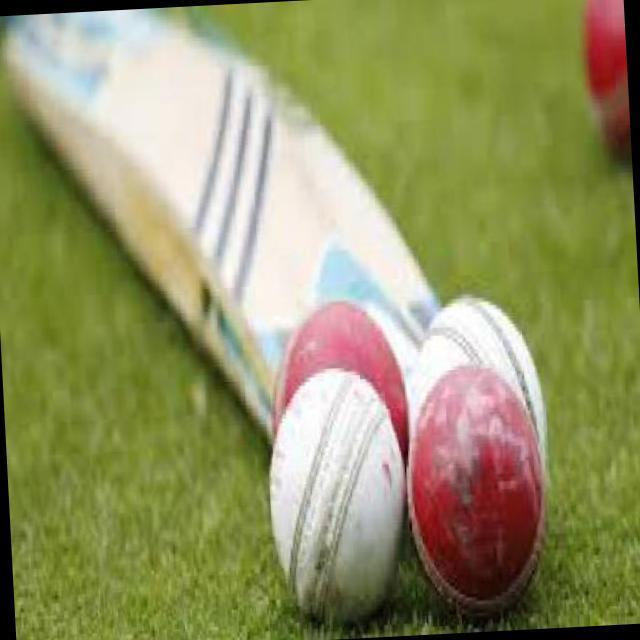-: (263, 323, 400, 602), (396, 378, 547, 596)
